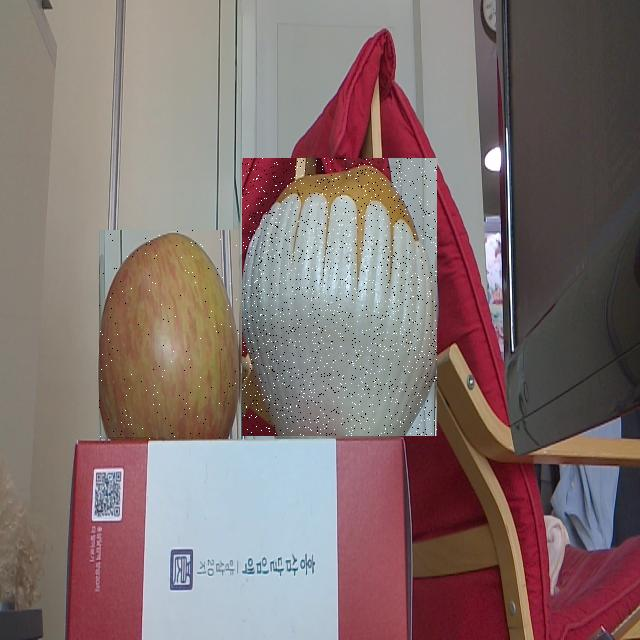apple: (99, 230, 239, 439)
pear: (242, 158, 437, 436)
